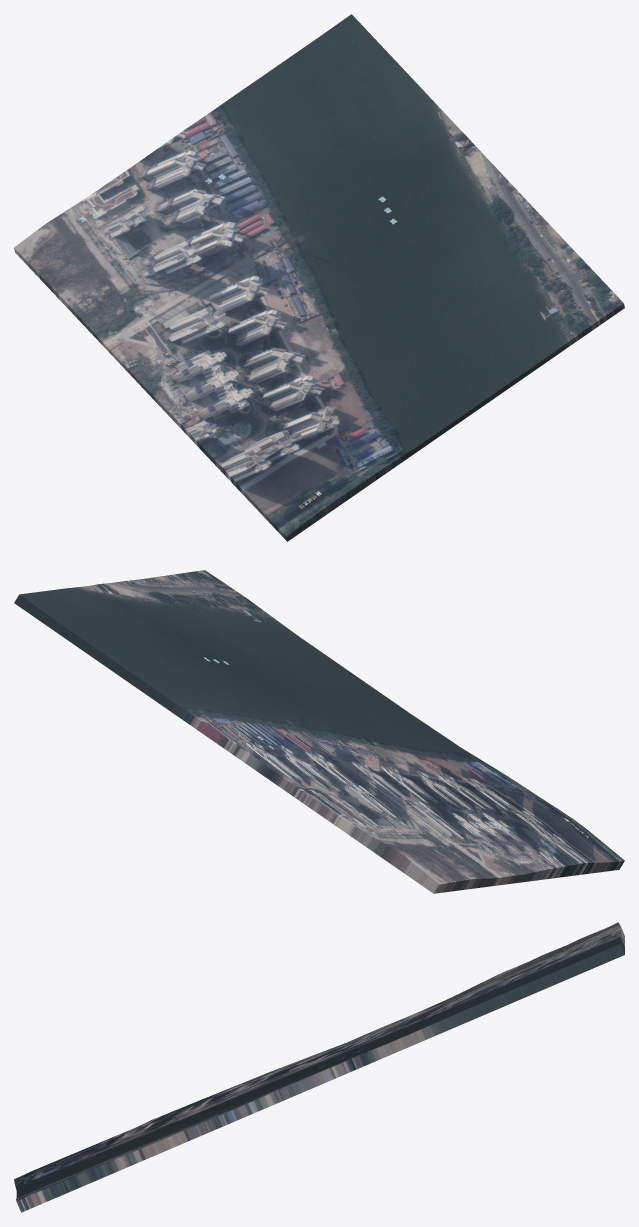
3 views of the same model, one above another, from view 1: azimuth 30°, elevation 25°; view 2: azimuth 150°, elevation 25°; view 3: azimuth 270°, elevation 25° (orthographic). The views are drawn at different scales.
Visible parts, largest first — view 1: 0_8_1; view 2: 0_8_1; view 3: 0_8_1.
Boxes of the visible parts, x1,y1,x2,y2 form: 0_8_1: (14, 14, 624, 541); 0_8_1: (14, 570, 624, 893); 0_8_1: (14, 922, 624, 1212).
Size of the model in its own units: 596 by 437 by 548.
1 material, 1 textured.
